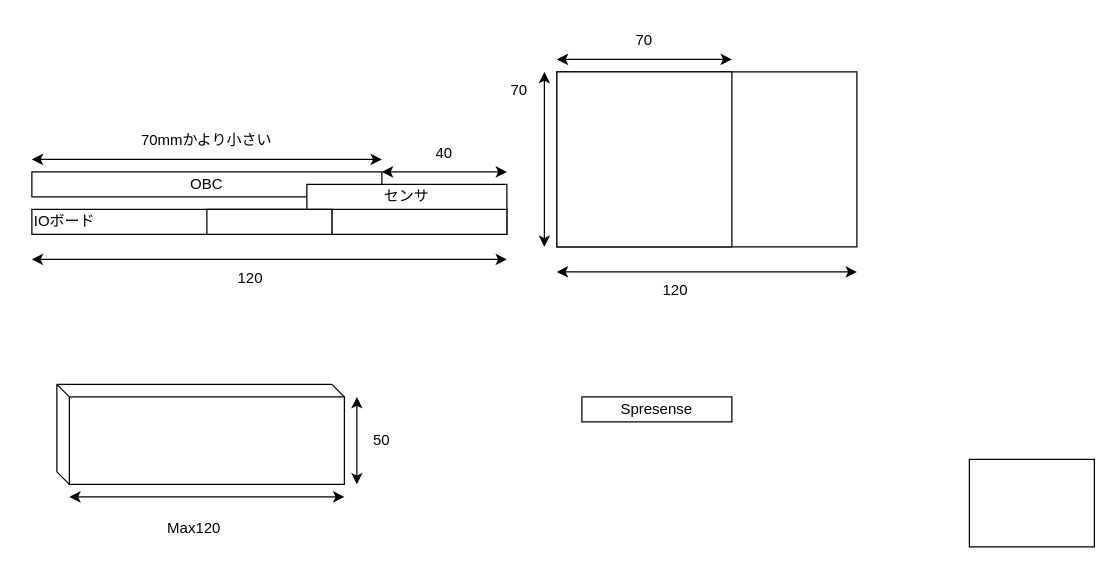
This 1116x569 diagram has some shape labels left out. The centre of each missing label's shape, as x and y in pixels:
モータドライバ: the point at 419,221
電源: the point at 269,221
